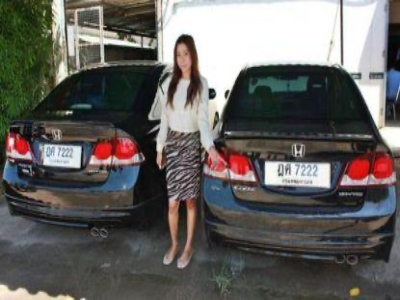licence: (264, 161, 331, 188)
